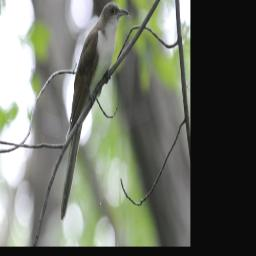Cuckoo: (58, 0, 129, 224)
